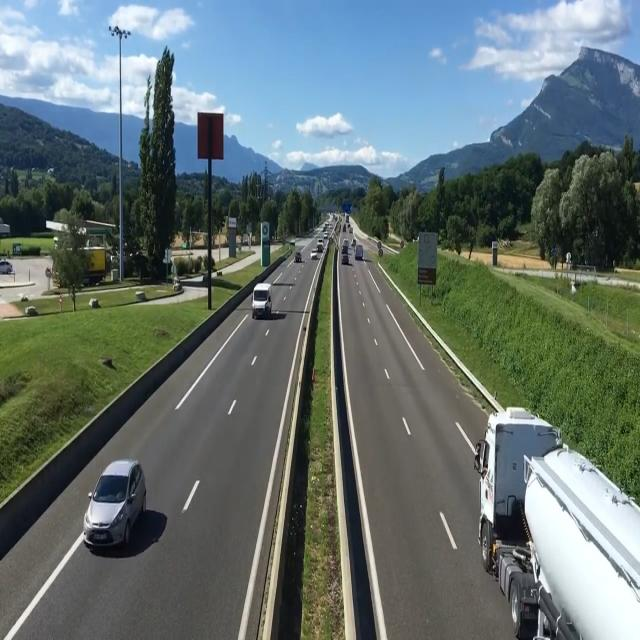car: (88, 455, 158, 558), (249, 279, 274, 321), (354, 234, 368, 262), (339, 249, 349, 269)
truck: (474, 398, 636, 640)
